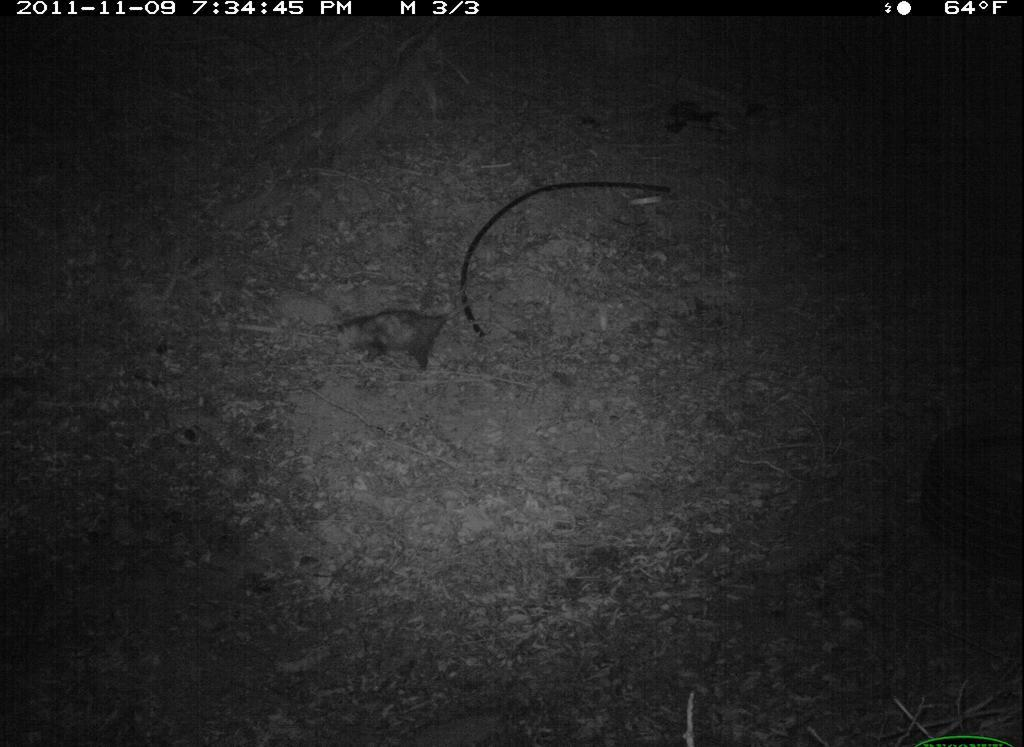opossum: (324, 289, 496, 376)
